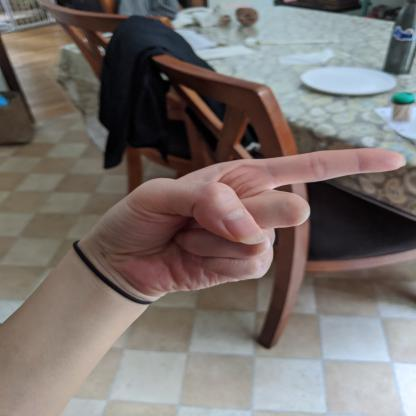G: (89, 145, 412, 300)
